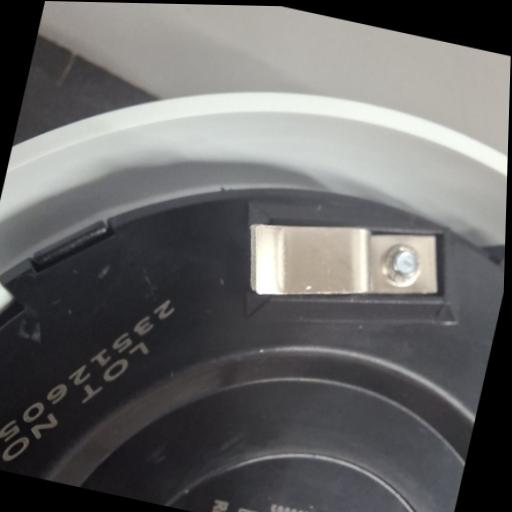yaysiz: (234, 193, 455, 333)
